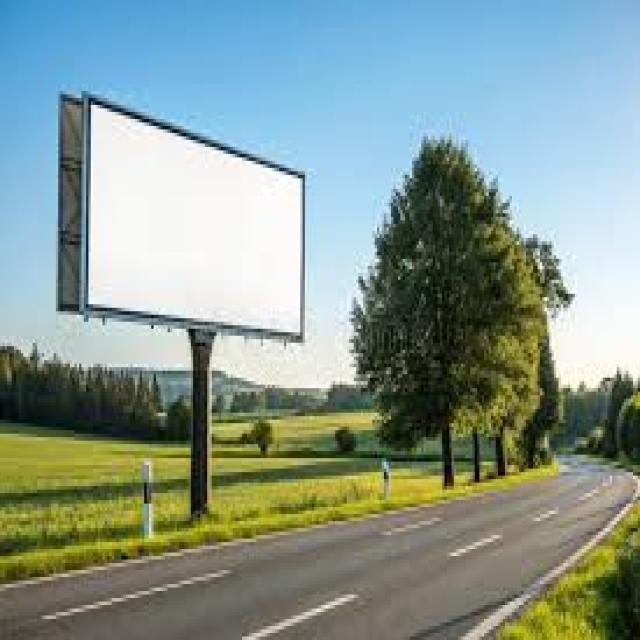Billboard_LHS: (43, 79, 319, 358)
Roadcorner: (5, 486, 453, 598), (451, 477, 638, 637)
Roadlane: (216, 486, 590, 637), (24, 509, 460, 637)
